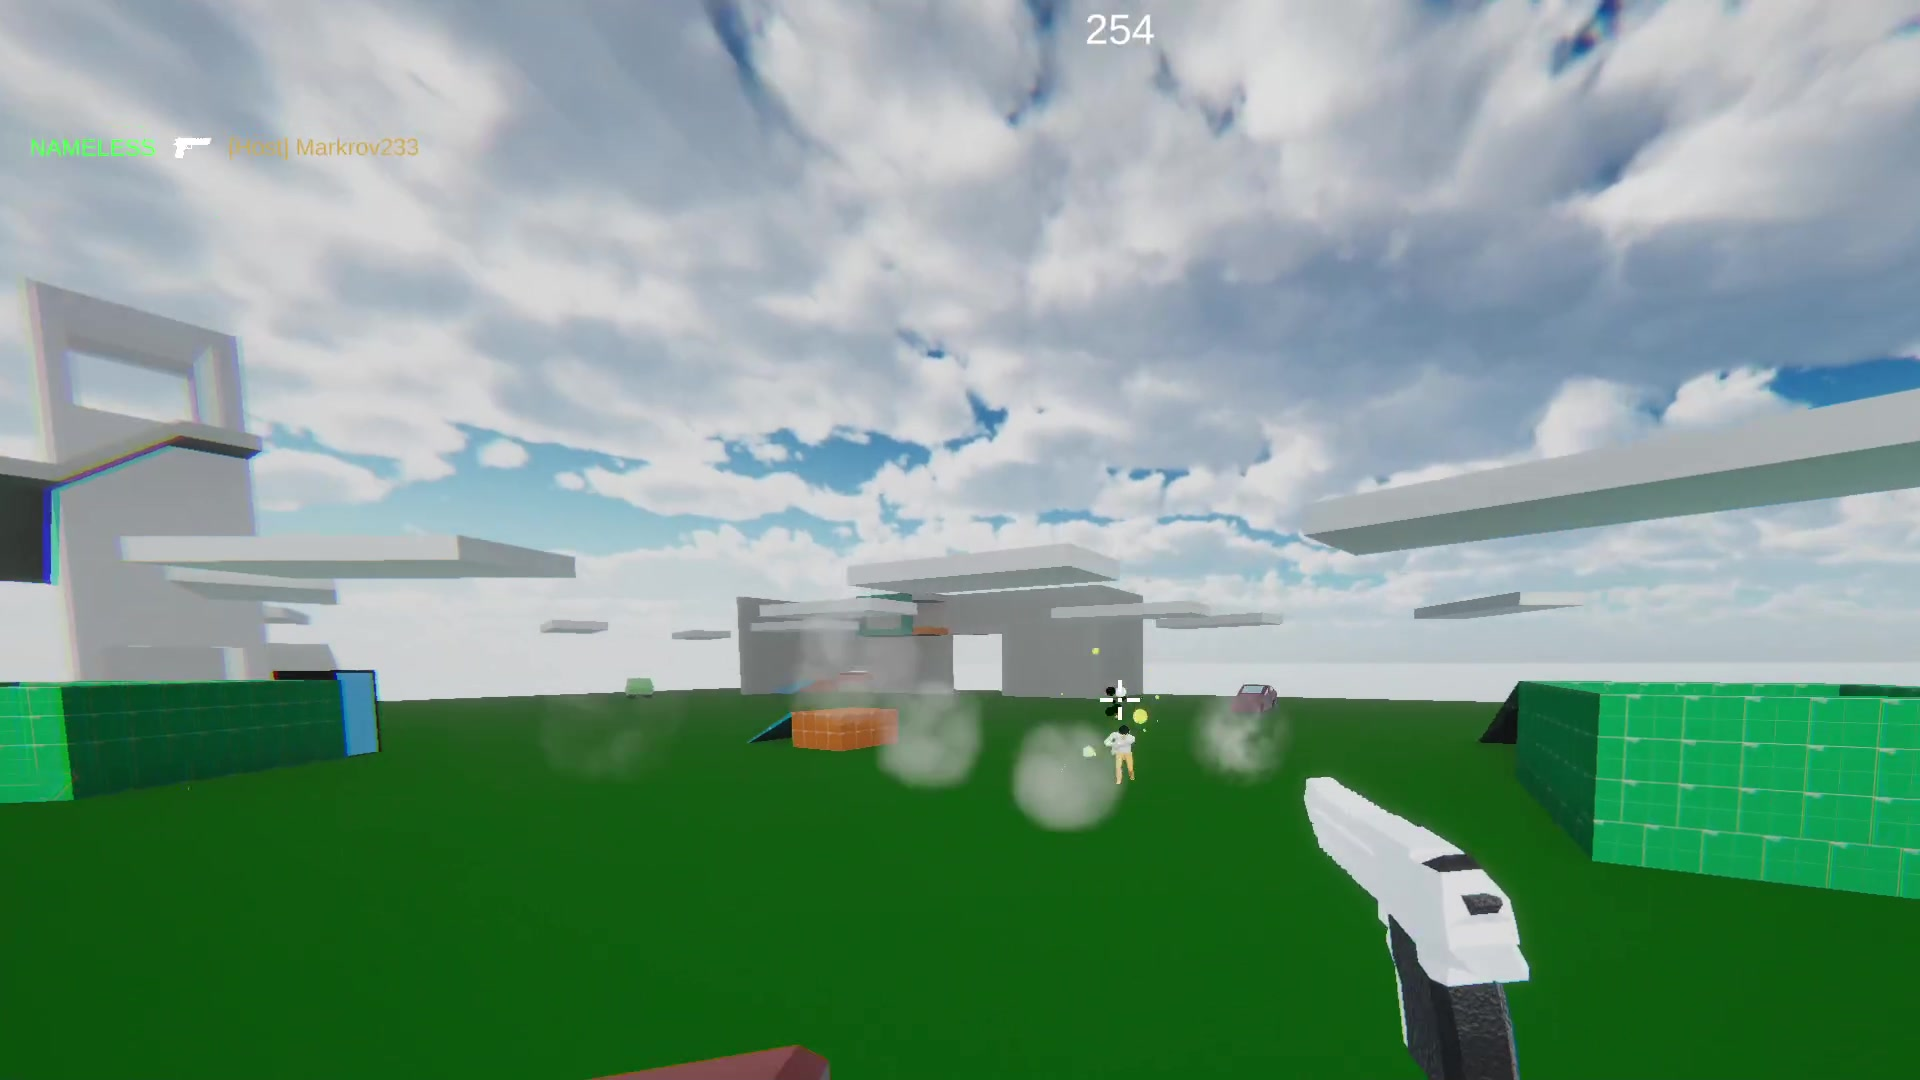human: (1106, 722, 1137, 786)
